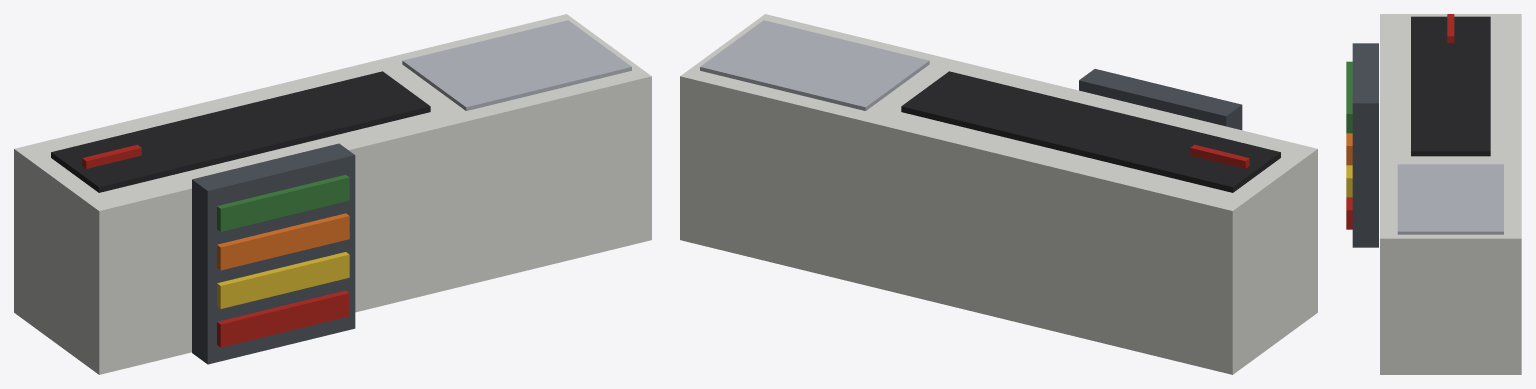
The model's file is checkout counter.glb.
3 renders of one model, left to right at view 1: azimuth 30°, elevation 25°; view 2: azimuth 150°, elevation 25°; view 3: azimuth 270°, elevation 25°, orthographic. The views are drawn at different scales.
Visible parts, largest first — view 1: checkout counter; view 2: checkout counter; view 3: checkout counter.
Boxes of the visible parts, x1,y1,x2,y2 form: checkout counter: (14, 14, 651, 374); checkout counter: (680, 14, 1317, 374); checkout counter: (1346, 14, 1521, 374).
Size of the model in its own units: 3 by 0.92 by 0.99.
